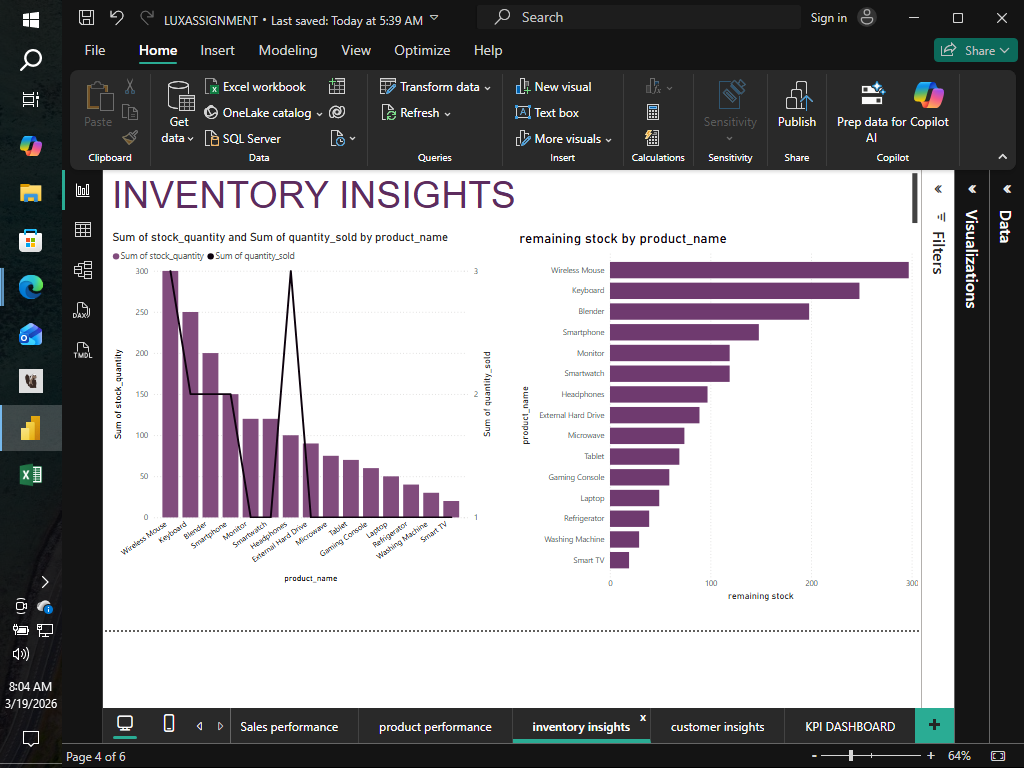

The page's visual inventory and layout, read from the dashboard file:
{"tool":"powerbi","page":{"name":"inventory insights","canvas":[1280,720],"ordinal":3},"visuals":[{"type":"textbox","box":[9.5,0,1270.5,91.4],"z":0},{"type":"textbox","box":[10,290,280,280],"z":1000},{"type":"lineClusteredColumnComboChart","fields":{"Category":["Dim Inventory.product_name"],"Y":["Sum(Dim Inventory.stock_quantity)"],"Y2":["Sum(Fact sales.quantity_sold)"]},"box":[9.5,93.3,603.8,558.1],"z":2000},{"type":"barChart","fields":{"Category":["Dim Inventory.product_name"],"Y":["Dim Inventory.remaining stock"]},"box":[645.7,93.3,634.3,584.8],"z":3000}]}

Visuals, with their boxes on the page's 1280x720 design canvas (x1, y1, x2, y2). These are canvas units, not pixel positions in the 1024x768 screenshot, which may show the page scaled, cropped or inside an application window:
textbox: region(10, 0, 1280, 91)
textbox: region(10, 290, 290, 570)
lineClusteredColumnComboChart - Dim Inventory.product_name x Sum(Dim Inventory.stock_quantity): region(10, 93, 613, 651)
barChart - Dim Inventory.product_name x Dim Inventory.remaining stock: region(646, 93, 1280, 678)
